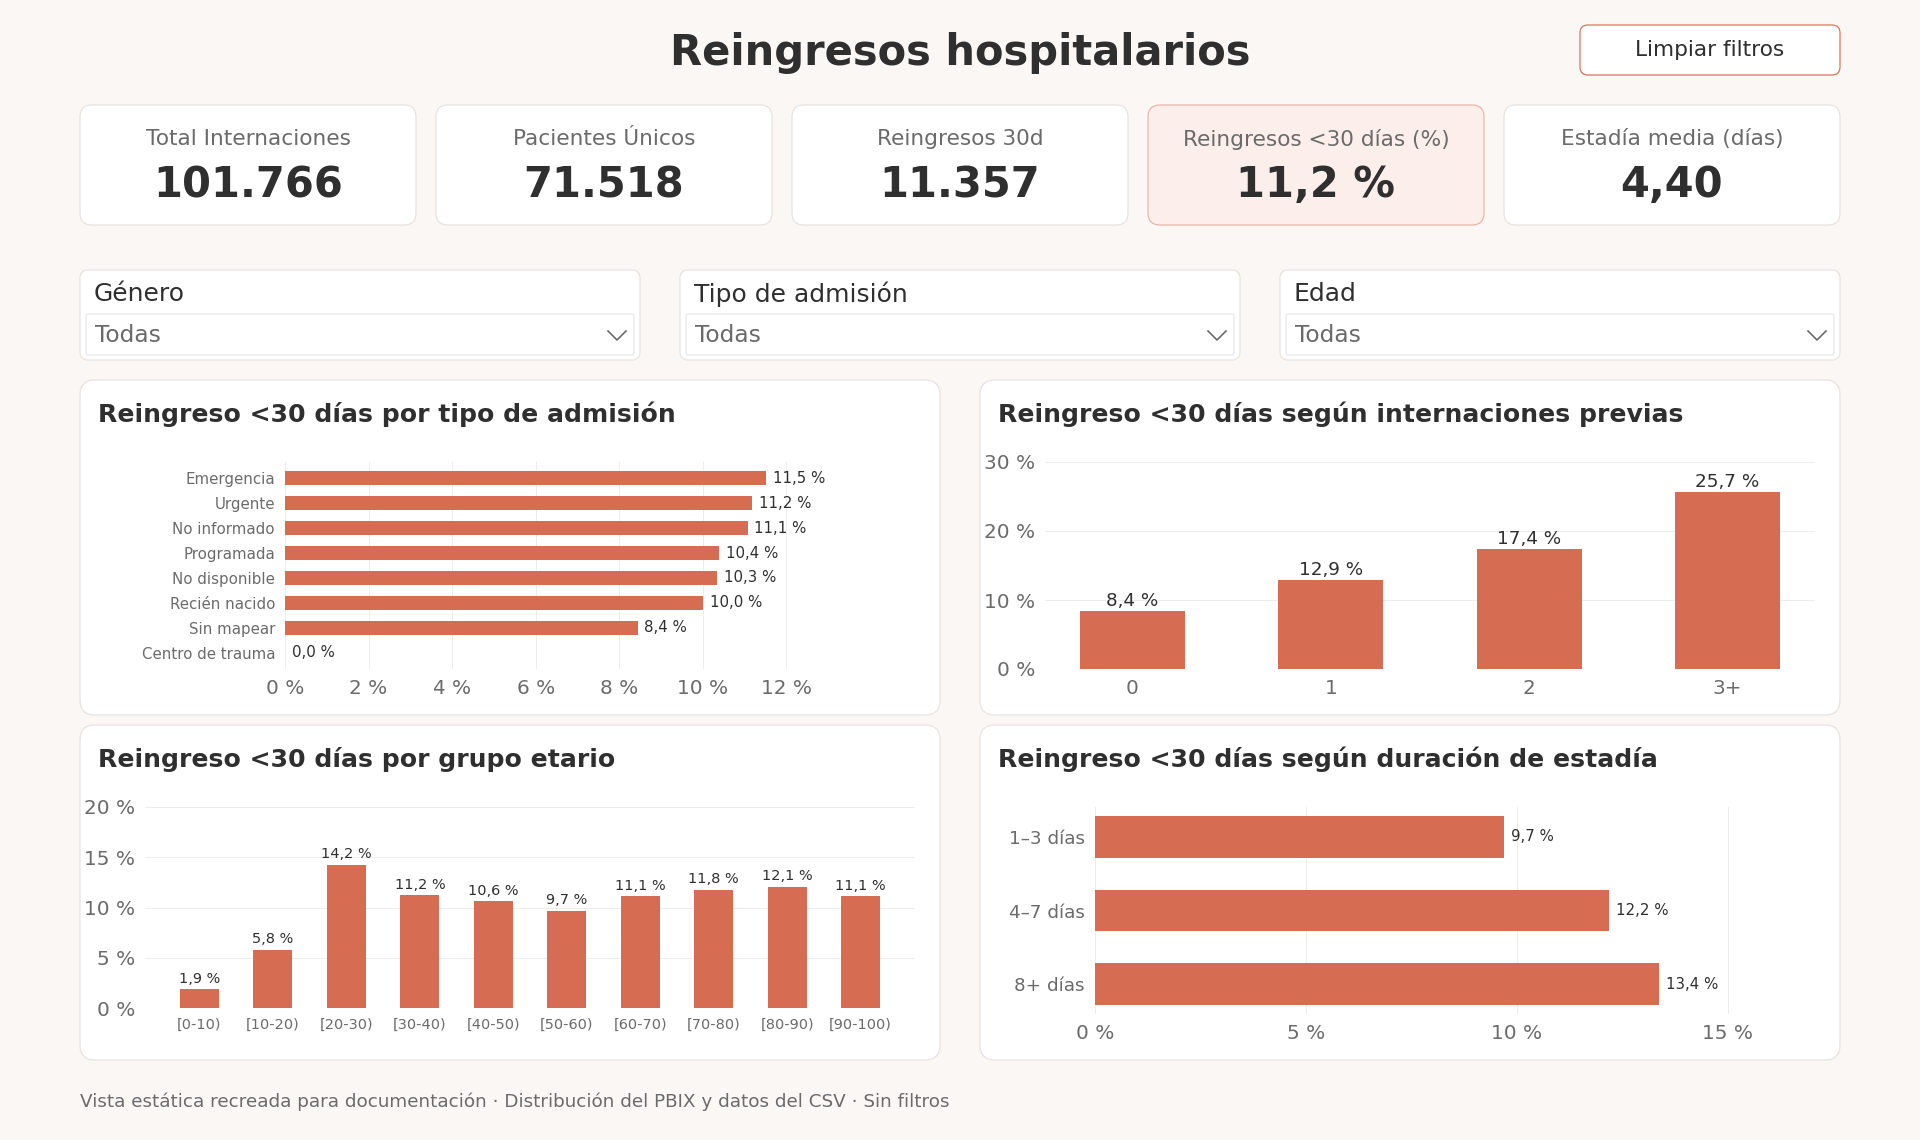

What the dashboard file says about the page in this screenshot:
{"tool":"powerbi","page":{"name":"Página 1","canvas":[1920,1080],"ordinal":0},"visuals":[{"type":"columnChart","title":"Reingreso <30 días por grupo etario","fields":{"Category":["vw_encounters_clean.age"],"Y":["vw_encounters_clean.Tasa Reingreso 30d"]},"box":[80,725,860,335],"z":0},{"type":"clusteredBarChart","title":"Reingreso <30 días por tipo de admisión","fields":{"Category":["vw_encounters_clean.Tipo de admisión (ES)"],"Y":["vw_encounters_clean.Tasa Reingreso 30d"]},"box":[80,380,860,335],"z":1000},{"type":"columnChart","title":"Reingreso <30 días según internaciones previas","fields":{"Category":["vw_encounters_clean.Grupo Internaciones Previas"],"Y":["vw_encounters_clean.Tasa Reingreso 30d"]},"box":[980,380,860,335],"z":2000},{"type":"barChart","title":"Reingreso <30 días según duración de estadía","fields":{"Category":["vw_encounters_clean.Grupo Estadía"],"Y":["vw_encounters_clean.Tasa Reingreso 30d"]},"box":[980,725,860,335],"z":3000},{"type":"slicer","fields":{"Values":["vw_encounters_clean.gender"]},"box":[80,270,560,90],"z":4000},{"type":"slicer","fields":{"Values":["vw_encounters_clean.age"]},"box":[1280,270,560,90],"z":5000},{"type":"slicer","fields":{"Values":["vw_encounters_clean.admission_type"]},"box":[680,270,560,90],"z":6000},{"type":"textbox","box":[80,20,1760,60],"z":7000},{"type":"cardVisual","fields":{"Data":["vw_encounters_clean.Total Internaciones"]},"box":[80,105,336,120],"z":8000},{"type":"cardVisual","fields":{"Data":["vw_encounters_clean.Pacientes Únicos"]},"box":[436,105,336,120],"z":9000},{"type":"cardVisual","fields":{"Data":["vw_encounters_clean.Reingresos 30d"]},"box":[792,105,336,120],"z":10000},{"type":"cardVisual","fields":{"Data":["vw_encounters_clean.Tasa Reingreso 30d"]},"box":[1148,105,336,120],"z":11000},{"type":"cardVisual","fields":{"Data":["vw_encounters_clean.Estadía Promedio"]},"box":[1504,105,336,120],"z":12000},{"type":"actionButton","box":[1580,25,260,50],"z":13000}]}

Visuals, with their boxes on the page's 1920x1080 design canvas (x1, y1, x2, y2). These are canvas units, not pixel positions in the 1920x1140 screenshot, which may show the page scaled, cropped or inside an application window:
"Reingreso <30 días por grupo etario" columnChart: 80:725:940:1060
"Reingreso <30 días por tipo de admisión" clusteredBarChart: 80:380:940:715
"Reingreso <30 días según internaciones previas" columnChart: 980:380:1840:715
"Reingreso <30 días según duración de estadía" barChart: 980:725:1840:1060
slicer - vw_encounters_clean.gender: 80:270:640:360
slicer - vw_encounters_clean.age: 1280:270:1840:360
slicer - vw_encounters_clean.admission_type: 680:270:1240:360
textbox: 80:20:1840:80
cardVisual - vw_encounters_clean.Total Internaciones: 80:105:416:225
cardVisual - vw_encounters_clean.Pacientes Únicos: 436:105:772:225
cardVisual - vw_encounters_clean.Reingresos 30d: 792:105:1128:225
cardVisual - vw_encounters_clean.Tasa Reingreso 30d: 1148:105:1484:225
cardVisual - vw_encounters_clean.Estadía Promedio: 1504:105:1840:225
actionButton: 1580:25:1840:75
